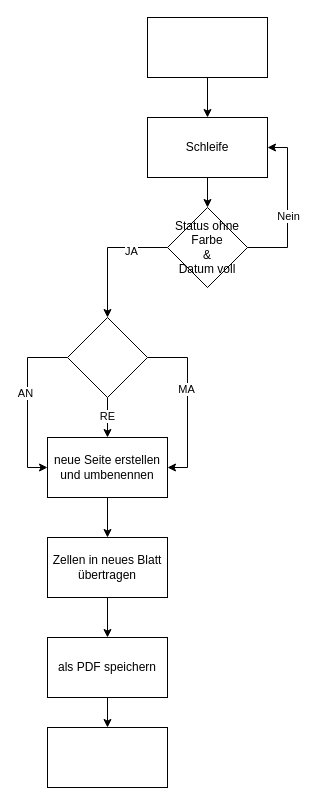
Image size: 316x805. Some labels were removed from this diagram. Here are the shapes that lost their labels. From the top down, the centre of each, then its label:
pixel 207 47: Start Button
pixel 107 357: AN / RE / MA 1 / MA 2
pixel 107 757: Status auf orange setzen
